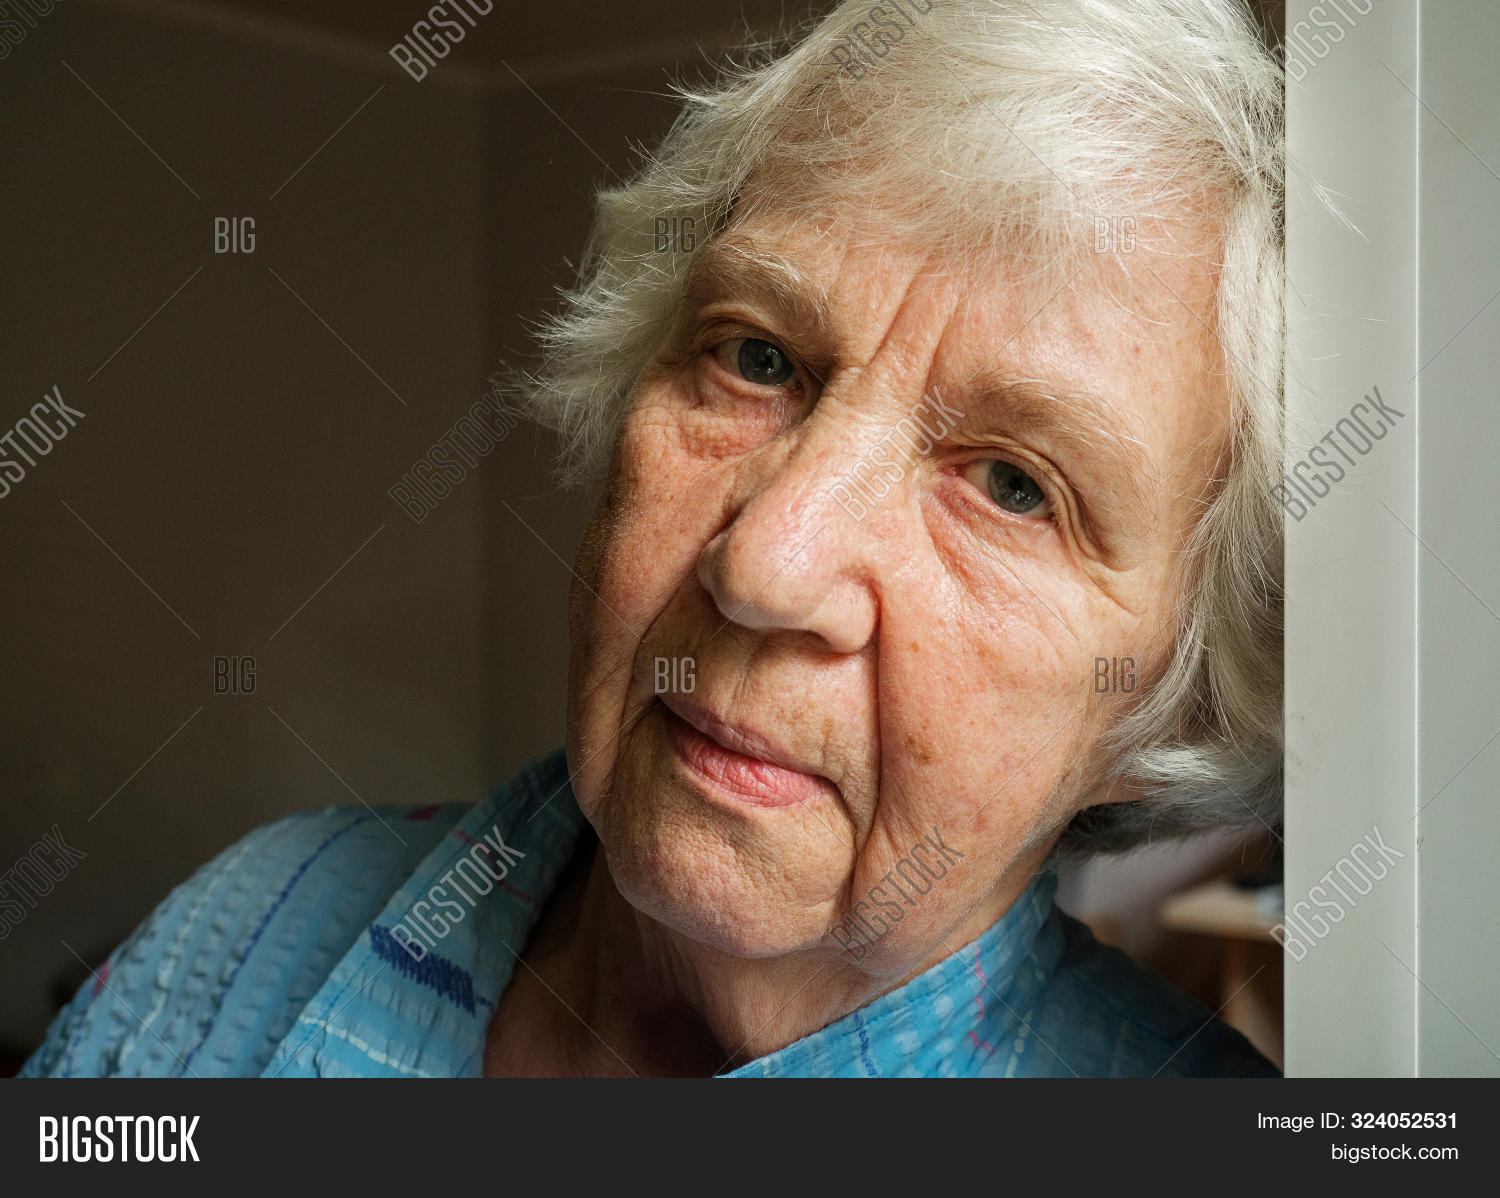NoMask: (572, 247, 1102, 962)
